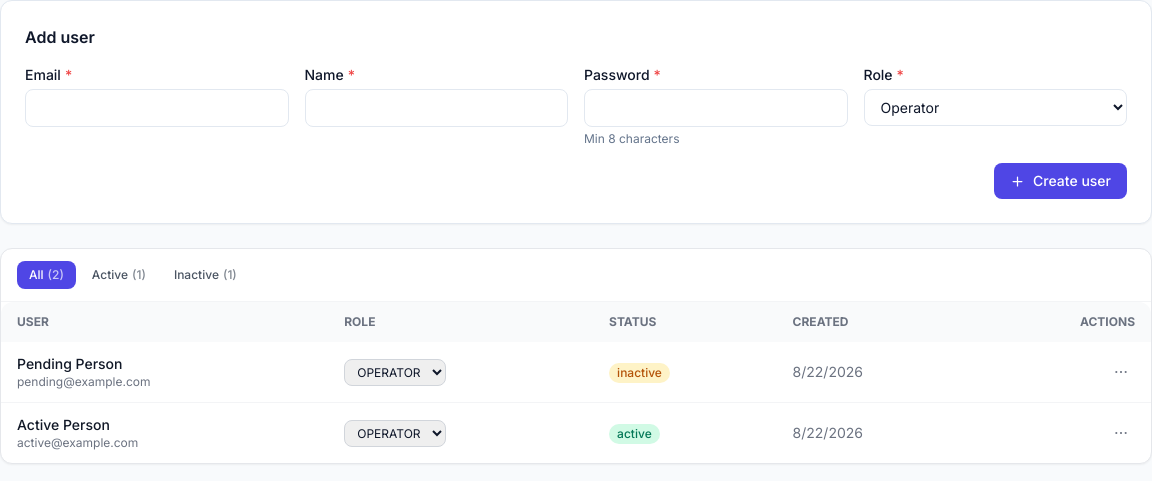
it: UsersPanel — activation UX (TKT-052) › filters the table to inactive users
Click the button "inactive(1)" at (205, 275), box [162, 261, 249, 289]
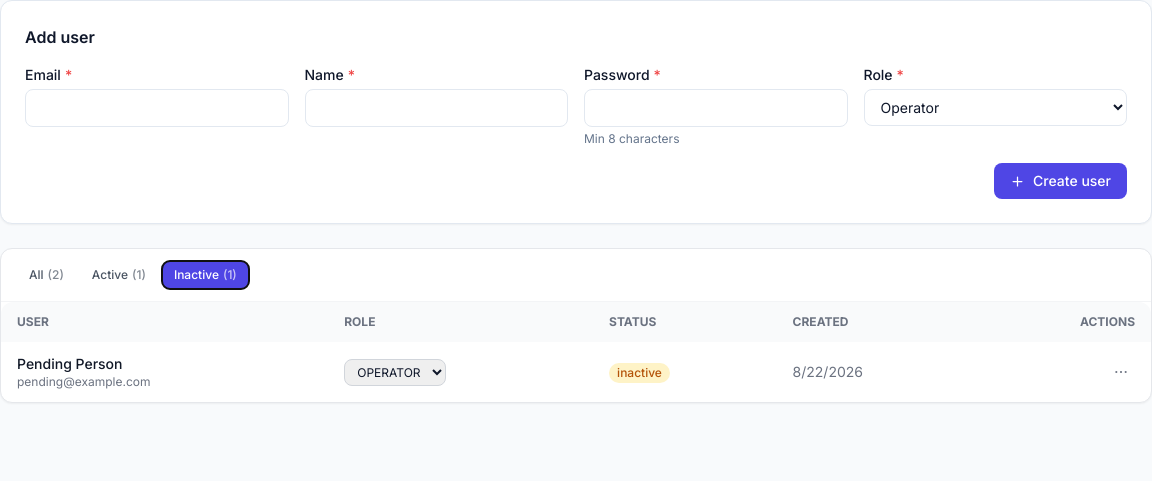
Expected: the text "Pending Person" is shown, [17, 355, 122, 372]
Result: the text "Active Person" is gone
